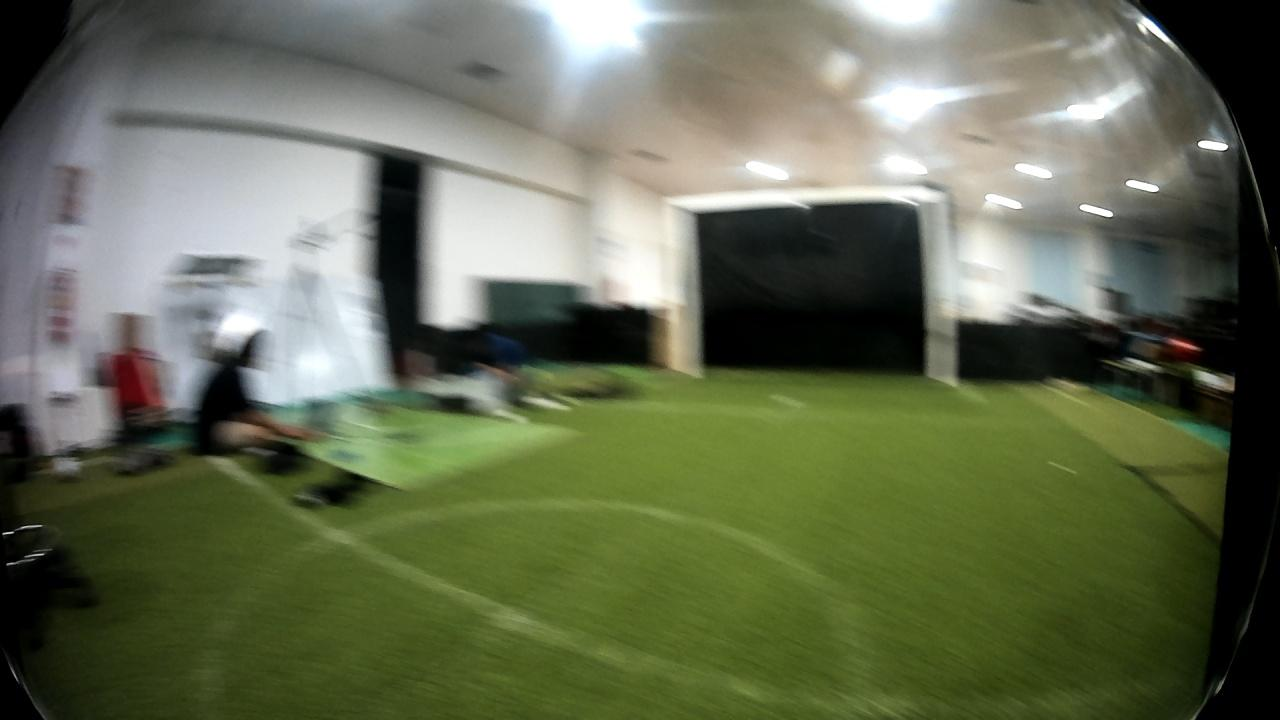ball: (47, 453, 85, 485)
